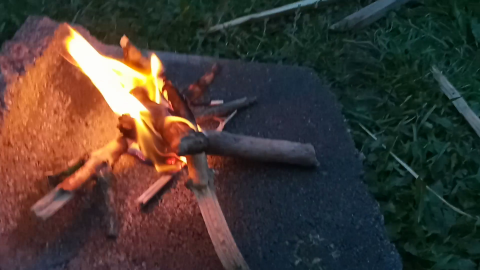fire: (57, 22, 218, 183)
